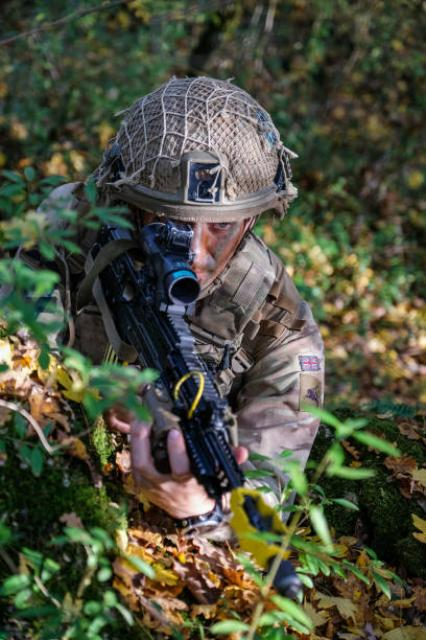other: (0, 82, 328, 524)
